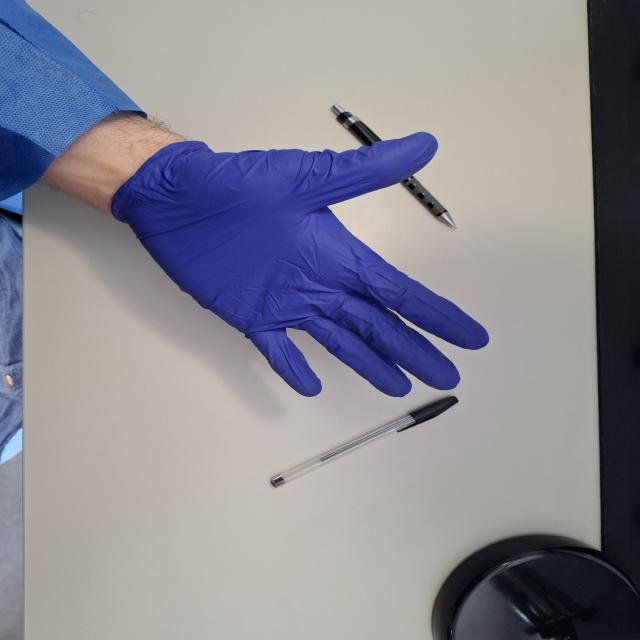glove_on: (114, 129, 496, 401)
